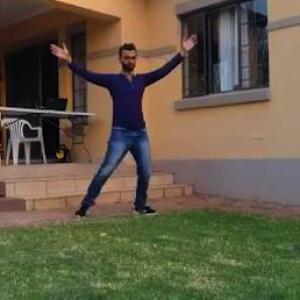takeoff: (45, 37, 199, 222)
